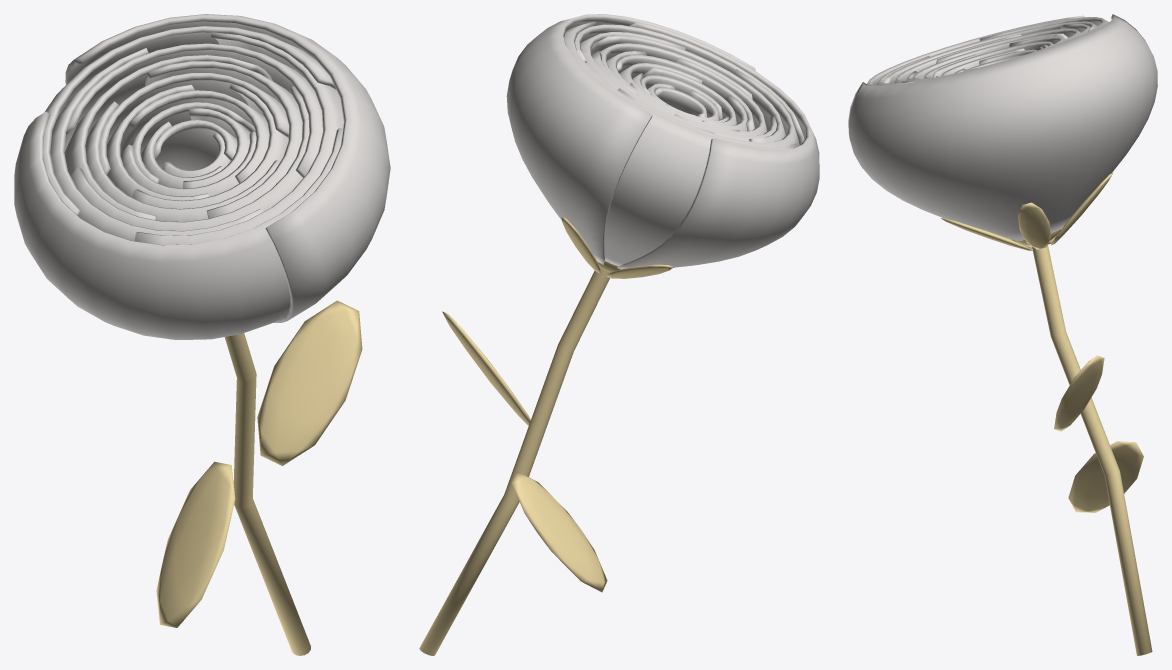
Rendered from rosaglb.glb.
3 views of the same model, side by side, from view 1: azimuth 30°, elevation 25°; view 2: azimuth 150°, elevation 25°; view 3: azimuth 270°, elevation 25° (orthographic). The views are drawn at different scales.
Visible parts, largest first — view 1: Rosa_XVA_Editorial; view 2: Rosa_XVA_Editorial; view 3: Rosa_XVA_Editorial.
Boxes of the visible parts, x1,y1,x2,y2 form: Rosa_XVA_Editorial: [14, 14, 390, 655]; Rosa_XVA_Editorial: [419, 14, 819, 655]; Rosa_XVA_Editorial: [848, 14, 1157, 655].
Size of the model in its own units: 0.8024 by 1.46 by 0.7162.
